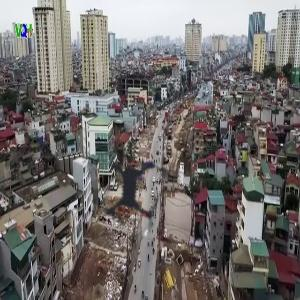drone: (70, 126, 206, 262)
